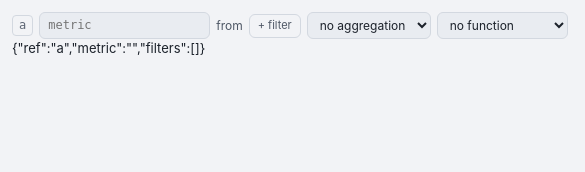
Scenario: QueryRow › filters metric suggestions as the user types
Type "http" into the dropdown labelled "metric" at (125, 26), box [39,12,210,39]
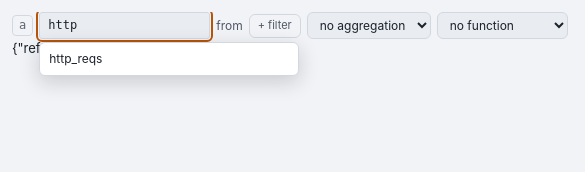
Expected: the option "http_reqs" is shown, [49,51,102,66]
